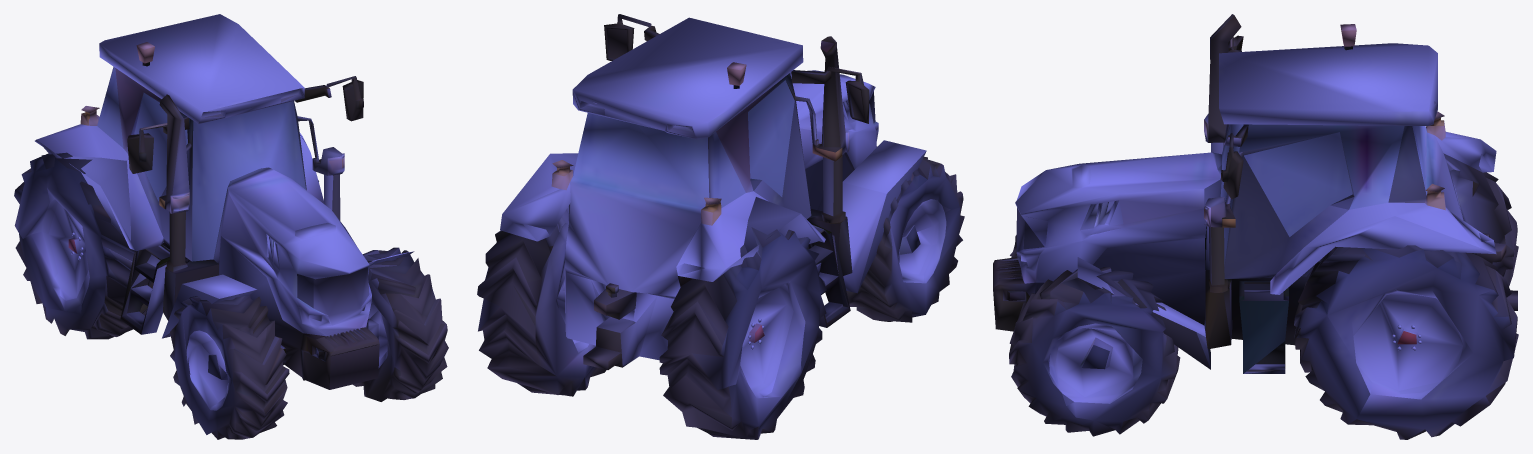
Rendered from model.progressive.glb.
The picture shows the model from 3 angles, left to right: view 1: azimuth 30°, elevation 25°; view 2: azimuth 150°, elevation 25°; view 3: azimuth 270°, elevation 25°; orthographic projection. The views are drawn at different scales.
Parts seen in each view (by area): view 1: material; view 2: material; view 3: material.
Boxes of the visible parts, x1,y1,x2,y2 form: material: (14,14,448,439); material: (477,14,964,439); material: (993,14,1518,439).
Size of the model in its own units: 1.09 by 1.3 by 1.88.
Materials: 1 (1 with a texture image).
